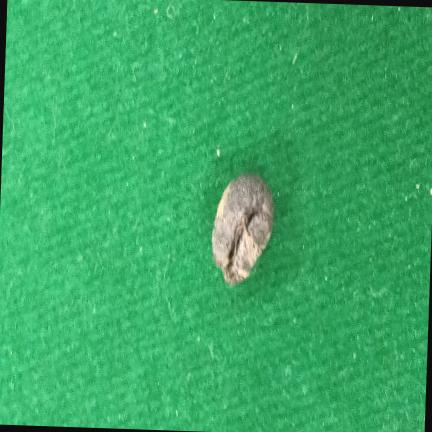partial-black: (212, 174, 274, 285)
